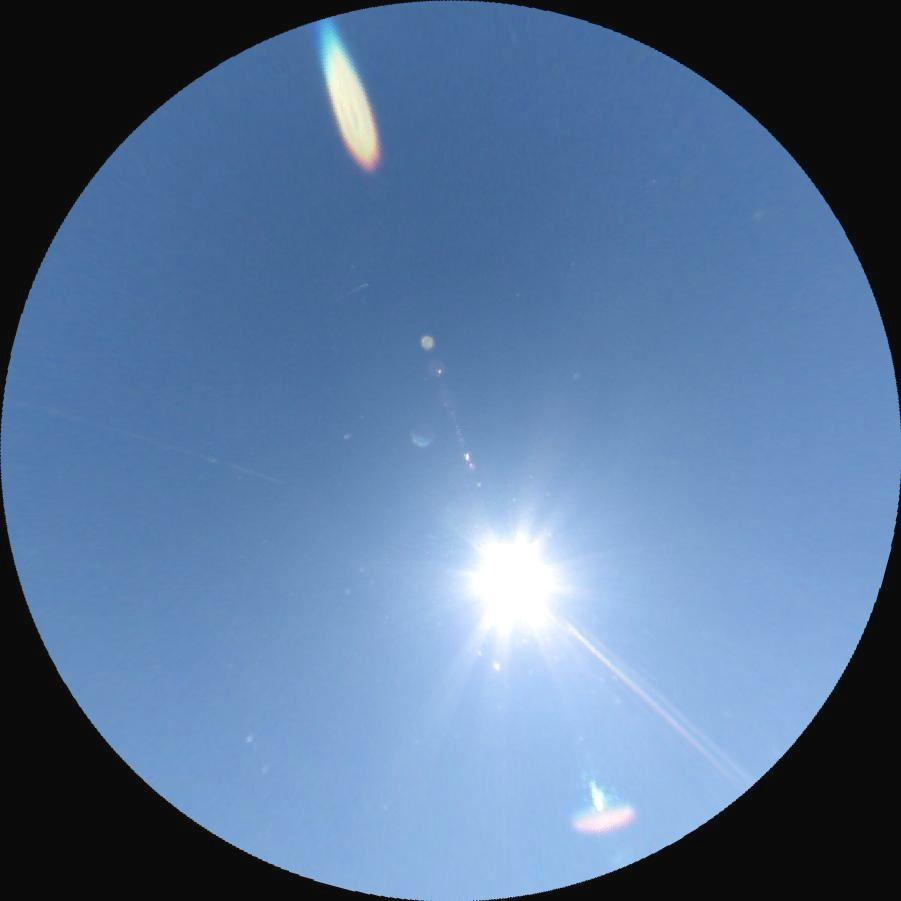contrail young: (343, 281, 369, 297)
parasite: (535, 604, 765, 794), (4, 394, 284, 484)
sun: (449, 518, 571, 644)
